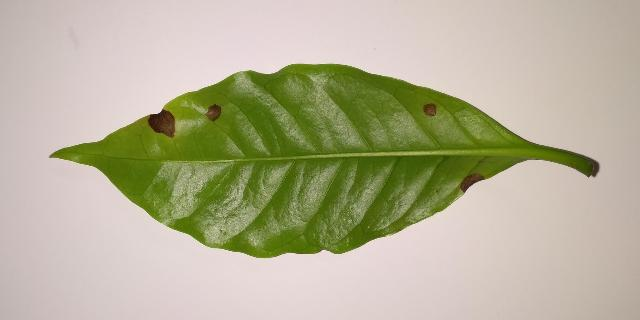rust: (144, 108, 175, 137), (460, 173, 487, 194), (206, 104, 221, 121), (423, 103, 436, 116)
